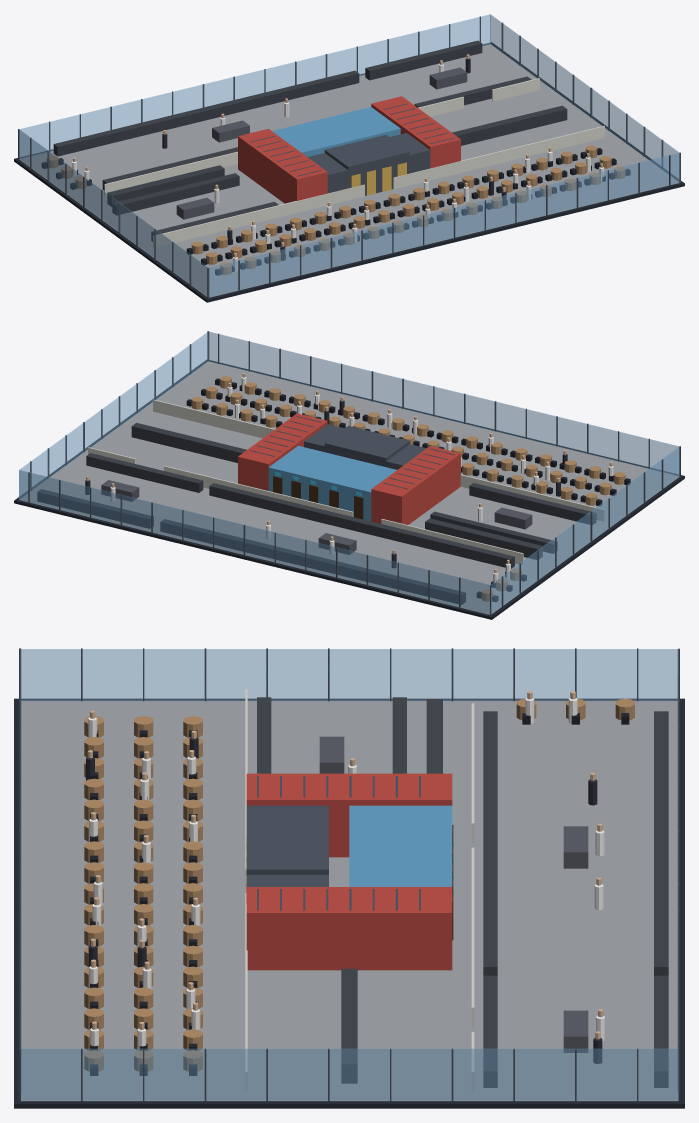
3 renders of one model, top to bottom at view 1: azimuth 30°, elevation 25°; view 2: azimuth 150°, elevation 25°; view 3: azimuth 270°, elevation 25°, orthographic. The views are drawn at different scales.
Parts seen in each view (by area): view 1: L4_floor_tile, L4_glass, L4_counter, L4_core, L4_wall, L4_table, L4_stair, L4_slab, L4_chair, L4_wash, L4_equip, L4_role_chef (+3 smaller); view 2: L4_floor_tile, L4_glass, L4_counter, L4_stair, L4_core, L4_table, L4_slab, L4_wall, L4_wash, L4_chair, L4_equip, L4_role_chef (+2 smaller); view 3: L4_floor_tile, L4_glass, L4_stair, L4_counter, L4_table, L4_core, L4_slab, L4_wash, L4_role_chef, L4_equip, L4_chair, L4_wall (+2 smaller).
Boxes of the visible parts, x1,y1,x2,y2 form: L4_floor_tile: (19,44,679,297); L4_glass: (19,14,679,296); L4_counter: (53,40,567,241); L4_core: (18,16,680,298); L4_wall: (104,78,604,247); L4_table: (46,145,625,274); L4_stair: (238,96,460,203); L4_slab: (14,42,684,302); L4_chair: (41,148,630,275); L4_wash: (272,107,400,156); L4_equip: (176,67,467,219); L4_role_chef: (72,64,604,271); L4_floor_tile: (19,361,679,614); L4_glass: (19,331,679,614); L4_counter: (37,423,596,604); L4_stair: (238,413,460,524); L4_core: (28,331,680,615); L4_table: (191,376,625,601); L4_slab: (14,360,684,619); L4_wall: (88,399,604,565); L4_wash: (268,445,396,521); L4_chair: (186,378,630,602); L4_equip: (101,480,532,554); L4_role_chef: (110,377,613,582); L4_floor_tile: (21,700,678,1101); L4_glass: (20,649,678,1100); L4_stair: (246,773,452,970); L4_counter: (257,697,668,1087); L4_table: (84,698,634,1071); L4_core: (19,648,679,1101); L4_slab: (14,698,684,1108); L4_wash: (349,805,452,886); L4_role_chef: (88,698,604,1050); L4_equip: (319,736,588,1052); L4_chair: (90,713,629,1075); L4_wall: (245,689,474,1092).
Size of the model in its own units: 46.6 by 3.37 by 32.6.
